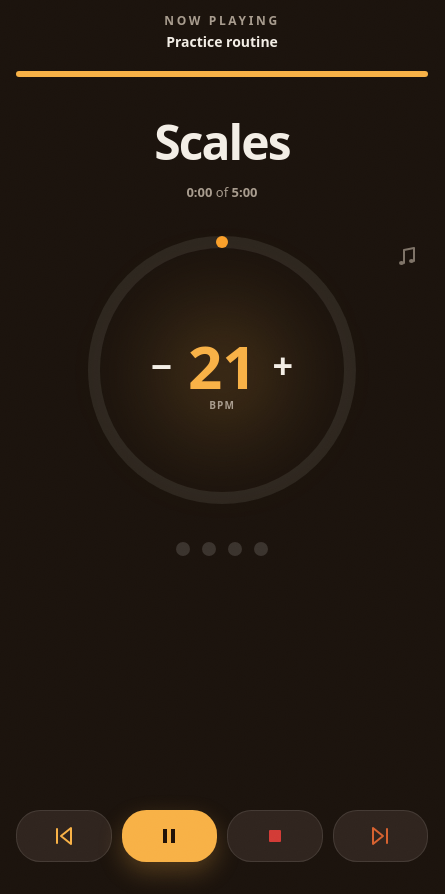
Scenario: SessionPlayer › stops repeating at the supported Tempo boundary
Press the mouse on the button named "Decrease tempo" at (161, 366), box [139,336,184,396]
Wait 2000 ms
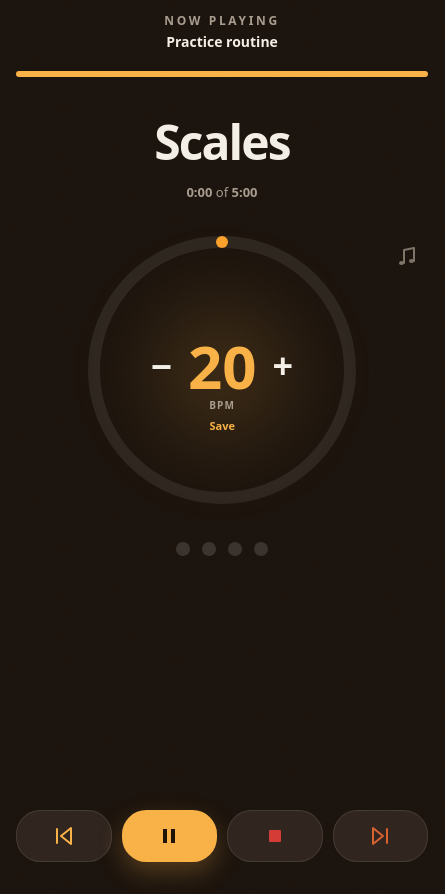
Expected: the text "20" is shown, [188,325,256,407]
